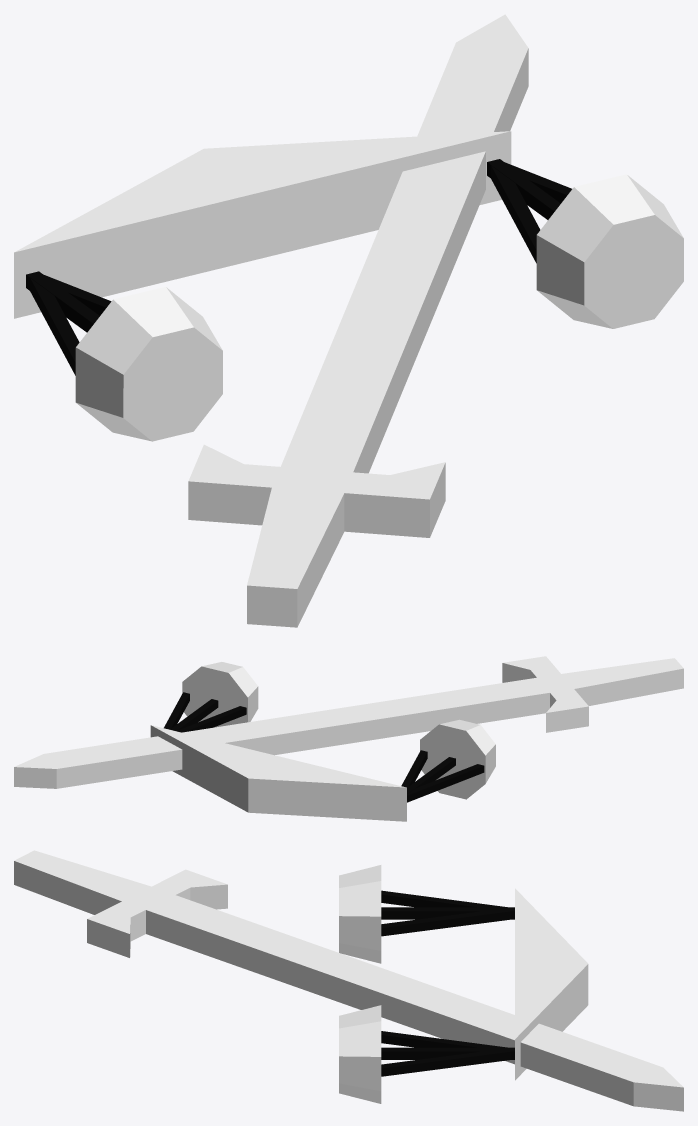
Rendered from TempleOSWholeModel.obj.
The picture shows the model from 3 angles, top to bottom: view 1: azimuth 30°, elevation 25°; view 2: azimuth 150°, elevation 25°; view 3: azimuth 270°, elevation 25°; orthographic projection. The views are drawn at different scales.
Visible parts, largest first — view 1: Sword_Cube.001, TempleTop_Cube.002, RightSide_Cylinder.001, LeftSide_Cylinder; view 2: Sword_Cube.001, TempleTop_Cube.002, LeftSide_Cylinder, RightSide_Cylinder.001; view 3: Sword_Cube.001, TempleTop_Cube.002, LeftSide_Cylinder, RightSide_Cylinder.001.
Part boxes in pixels (box(x1,y1,x2,y2)): Sword_Cube.001: box(188, 14, 528, 627); TempleTop_Cube.002: box(14, 131, 511, 318); RightSide_Cylinder.001: box(487, 159, 683, 328); LeftSide_Cylinder: box(26, 271, 222, 441); Sword_Cube.001: box(14, 656, 683, 788); TempleTop_Cube.002: box(150, 725, 406, 821); LeftSide_Cylinder: box(401, 719, 495, 802); RightSide_Cylinder.001: box(164, 662, 258, 732); Sword_Cube.001: box(14, 850, 683, 1111); TempleTop_Cube.002: box(515, 888, 588, 1080); LeftSide_Cylinder: box(339, 865, 514, 963); RightSide_Cylinder.001: box(339, 1005, 514, 1103).
Bounding box in the file's own units: 1.69 × 0.2764 × 2.02.
Materials: 1 (1 with a texture image).
